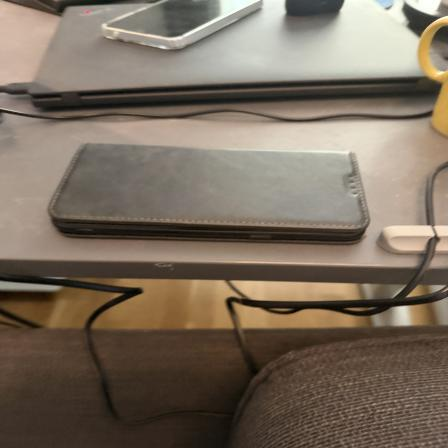phone: (51, 140, 373, 242), (89, 0, 277, 49)
